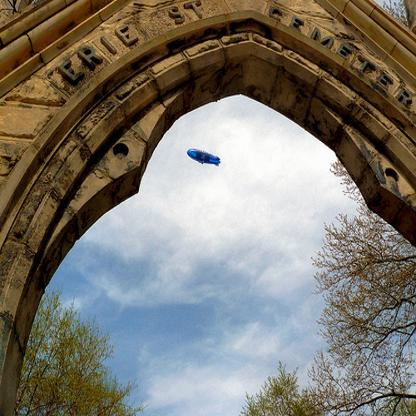Airship: (185, 143, 224, 172)
